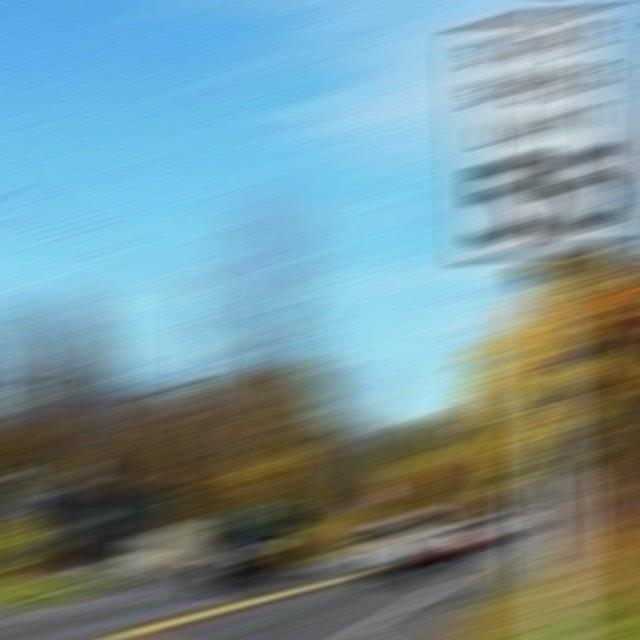speedLimit55: (451, 23, 626, 254)
